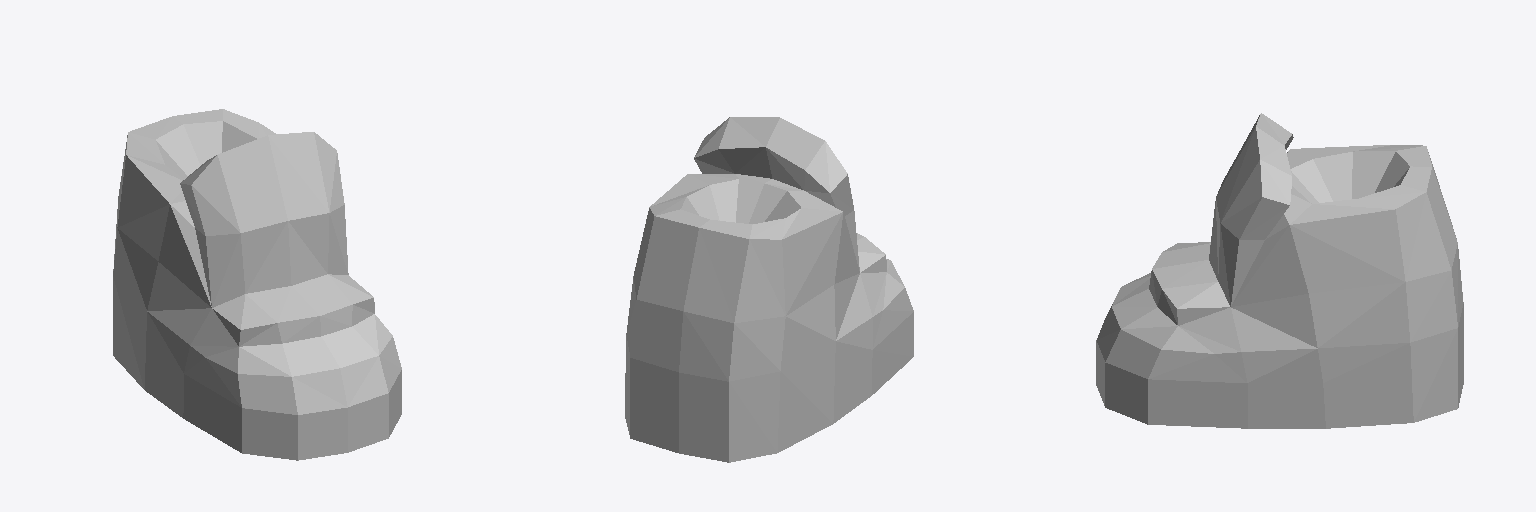
Rendered from Super Left Sneakers.obj.
3 views of the same model, side by side, from view 1: azimuth 30°, elevation 25°; view 2: azimuth 150°, elevation 25°; view 3: azimuth 270°, elevation 25° (orthographic).
Parts seen in each view (by area): view 1: jumpBooster; view 2: jumpBooster; view 3: jumpBooster.
Boxes of the visible parts, box(x1,y1,x2,y2) form: jumpBooster: box(113, 109, 401, 460); jumpBooster: box(625, 117, 913, 462); jumpBooster: box(1096, 113, 1463, 428).
Size of the model in its own units: 1.6 by 2.24 by 2.87.